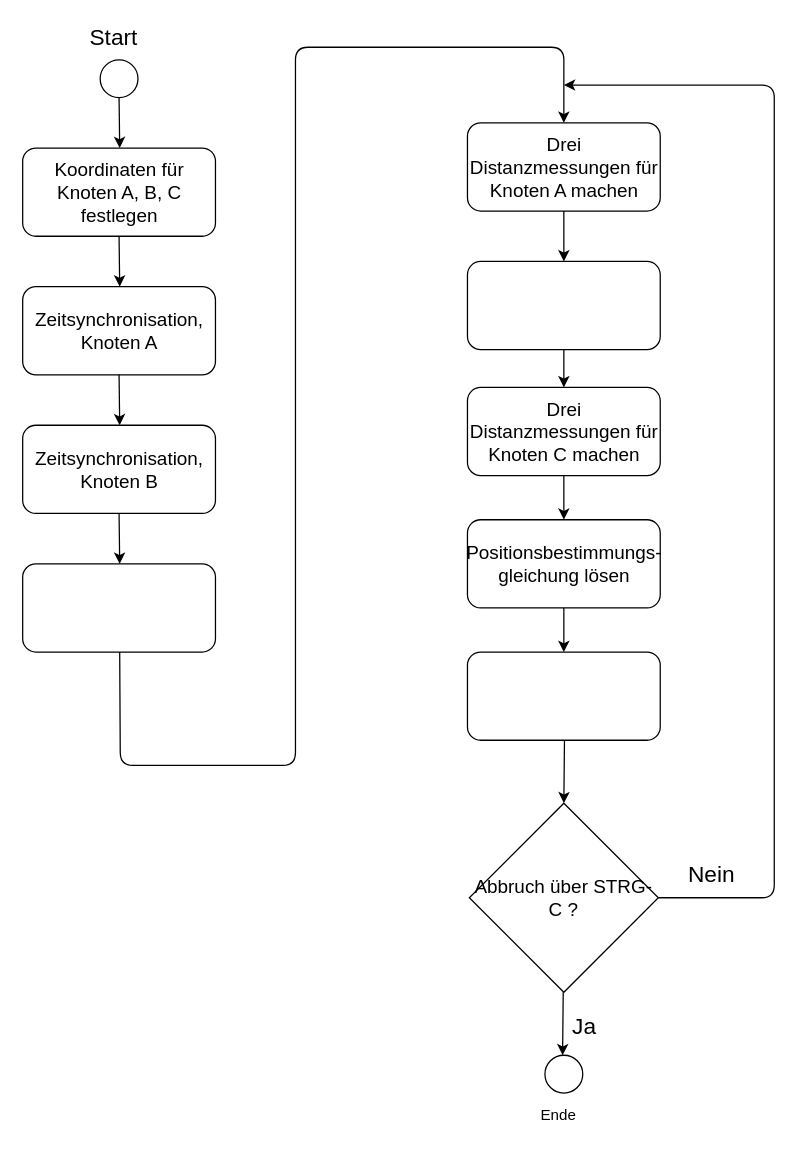
Image size: 806x1149. Some labels were removed from this diagram. The shapes that lost their labels are listed below. From the top down, each one's centre as x and y in pixels, then its label:
At (x=563, y=305): "Drei Distanzmessungen für Knoten B machen".
At (x=118, y=607): "Zeitsynchronisation, Knoten C".
At (x=563, y=695): "Ergebnis über UART ausgeben".
